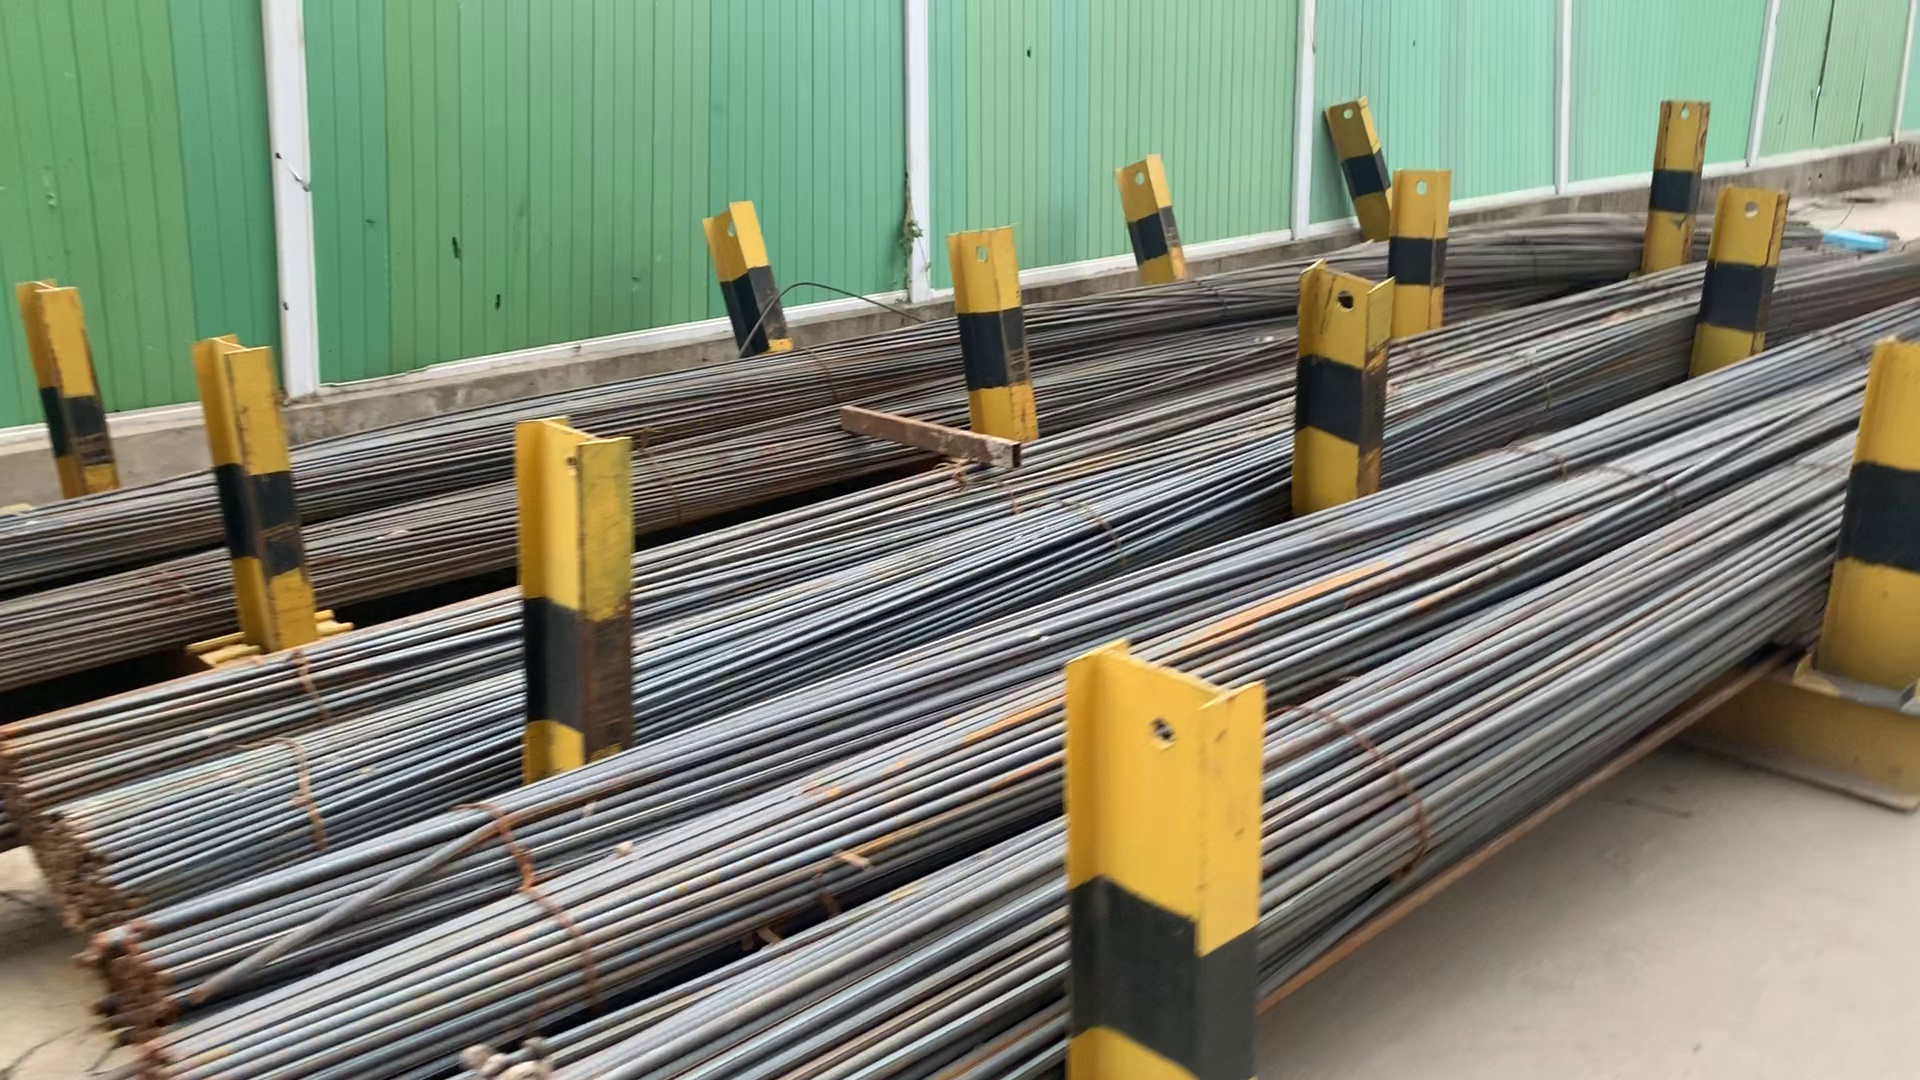rebar: (80, 938, 173, 1035), (45, 815, 119, 926)
